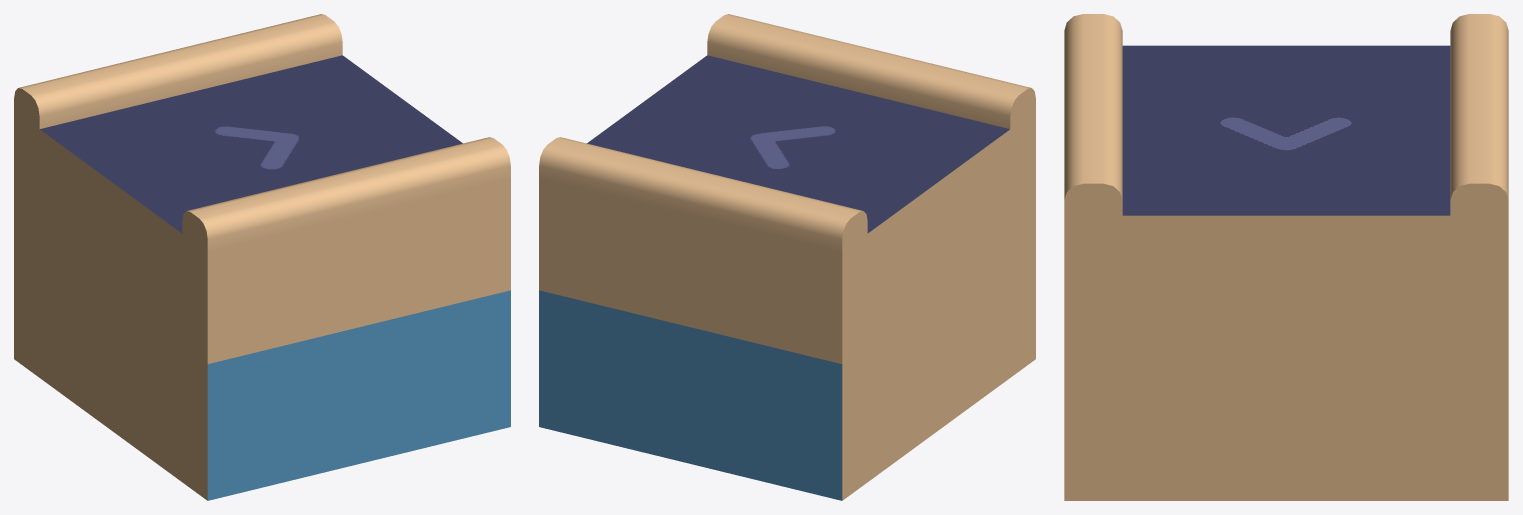
Rendered from Conveyor.fbx.
3 renders of one model, left to right at view 1: azimuth 30°, elevation 25°; view 2: azimuth 150°, elevation 25°; view 3: azimuth 270°, elevation 25°, orthographic. The views are drawn at different scales.
Visible parts, largest first — view 1: CONV; view 2: CONV; view 3: CONV.
Part boxes in pixels (x1=…): CONV: x1=14, y1=14, x2=510, y2=500; CONV: x1=539, y1=14, x2=1035, y2=500; CONV: x1=1064, y1=14, x2=1508, y2=500.
Size of the model in its own units: 0.6011 by 0.5235 by 0.665.
1 material, 1 textured.
